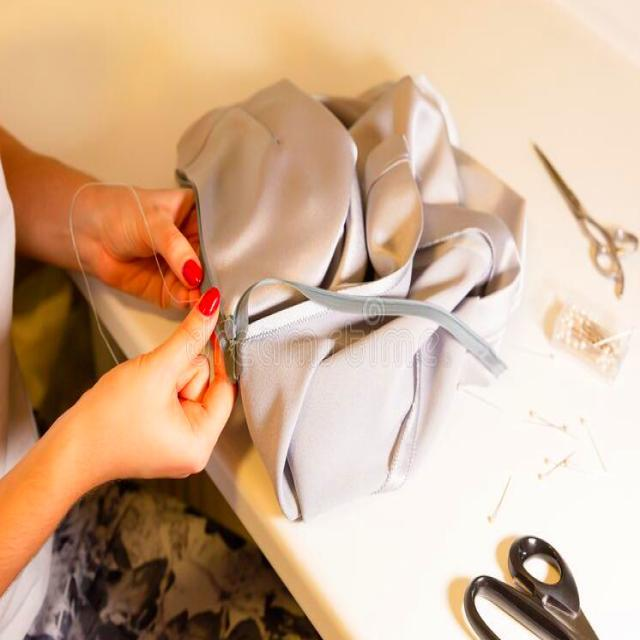clothes: (232, 88, 542, 455)
